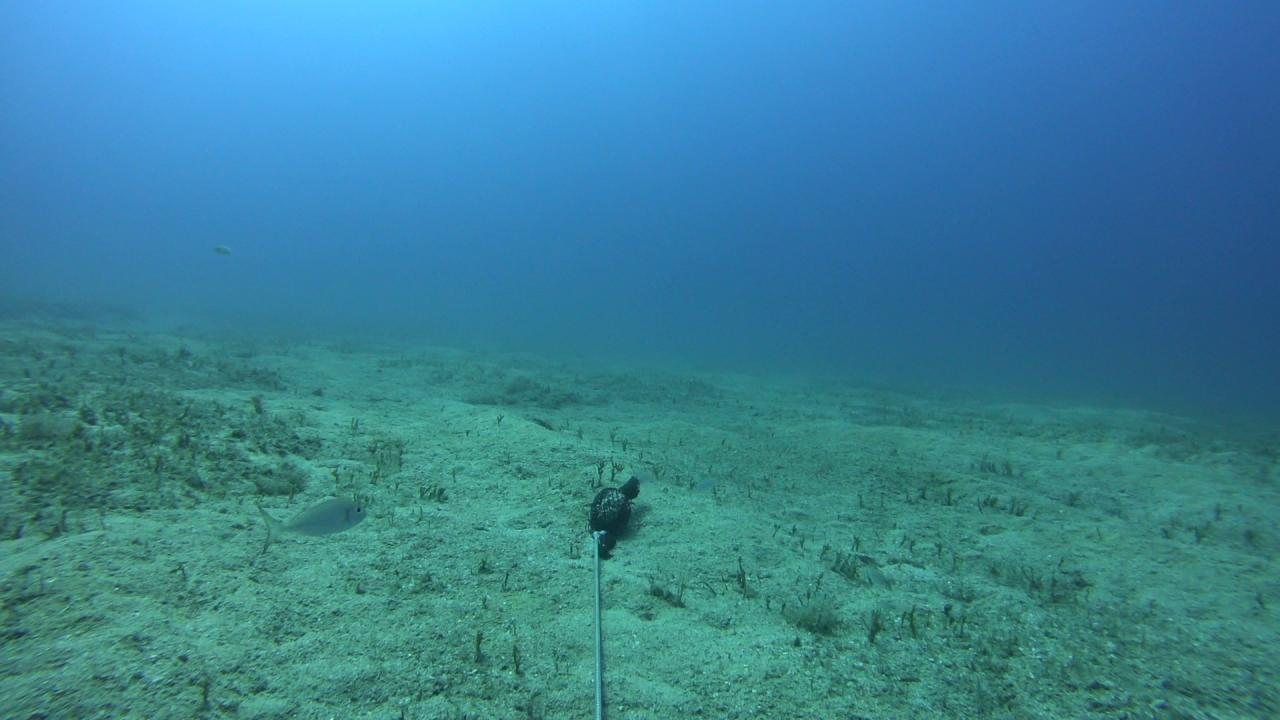pagellus: (255, 497, 368, 550)
